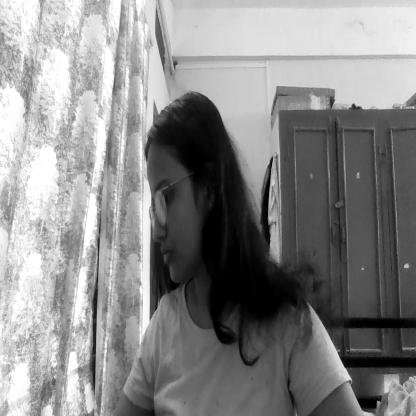Distracted: (147, 138, 230, 291)
